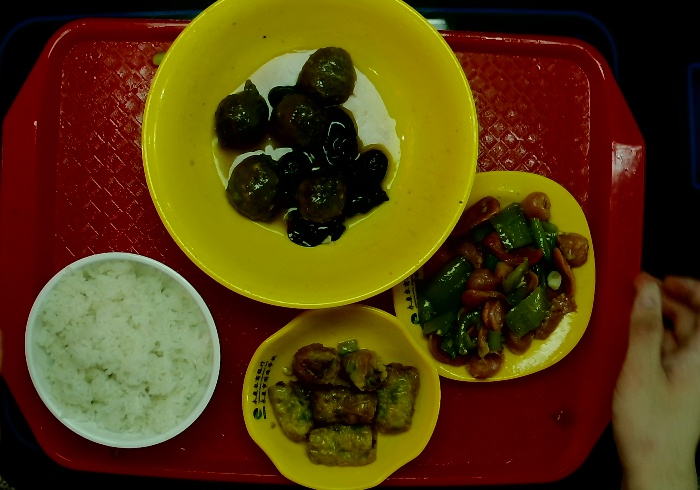YKMZ-Fan_Wan: (24, 250, 225, 453)
YKMZ-Huang_Se_Ao_Bian_Wan: (238, 295, 446, 490)
YKMZ-Huang_Se_Fang_Die: (391, 159, 602, 394)
YKMZ-Huang_Se_Tang_Wan: (134, 1, 481, 314)
